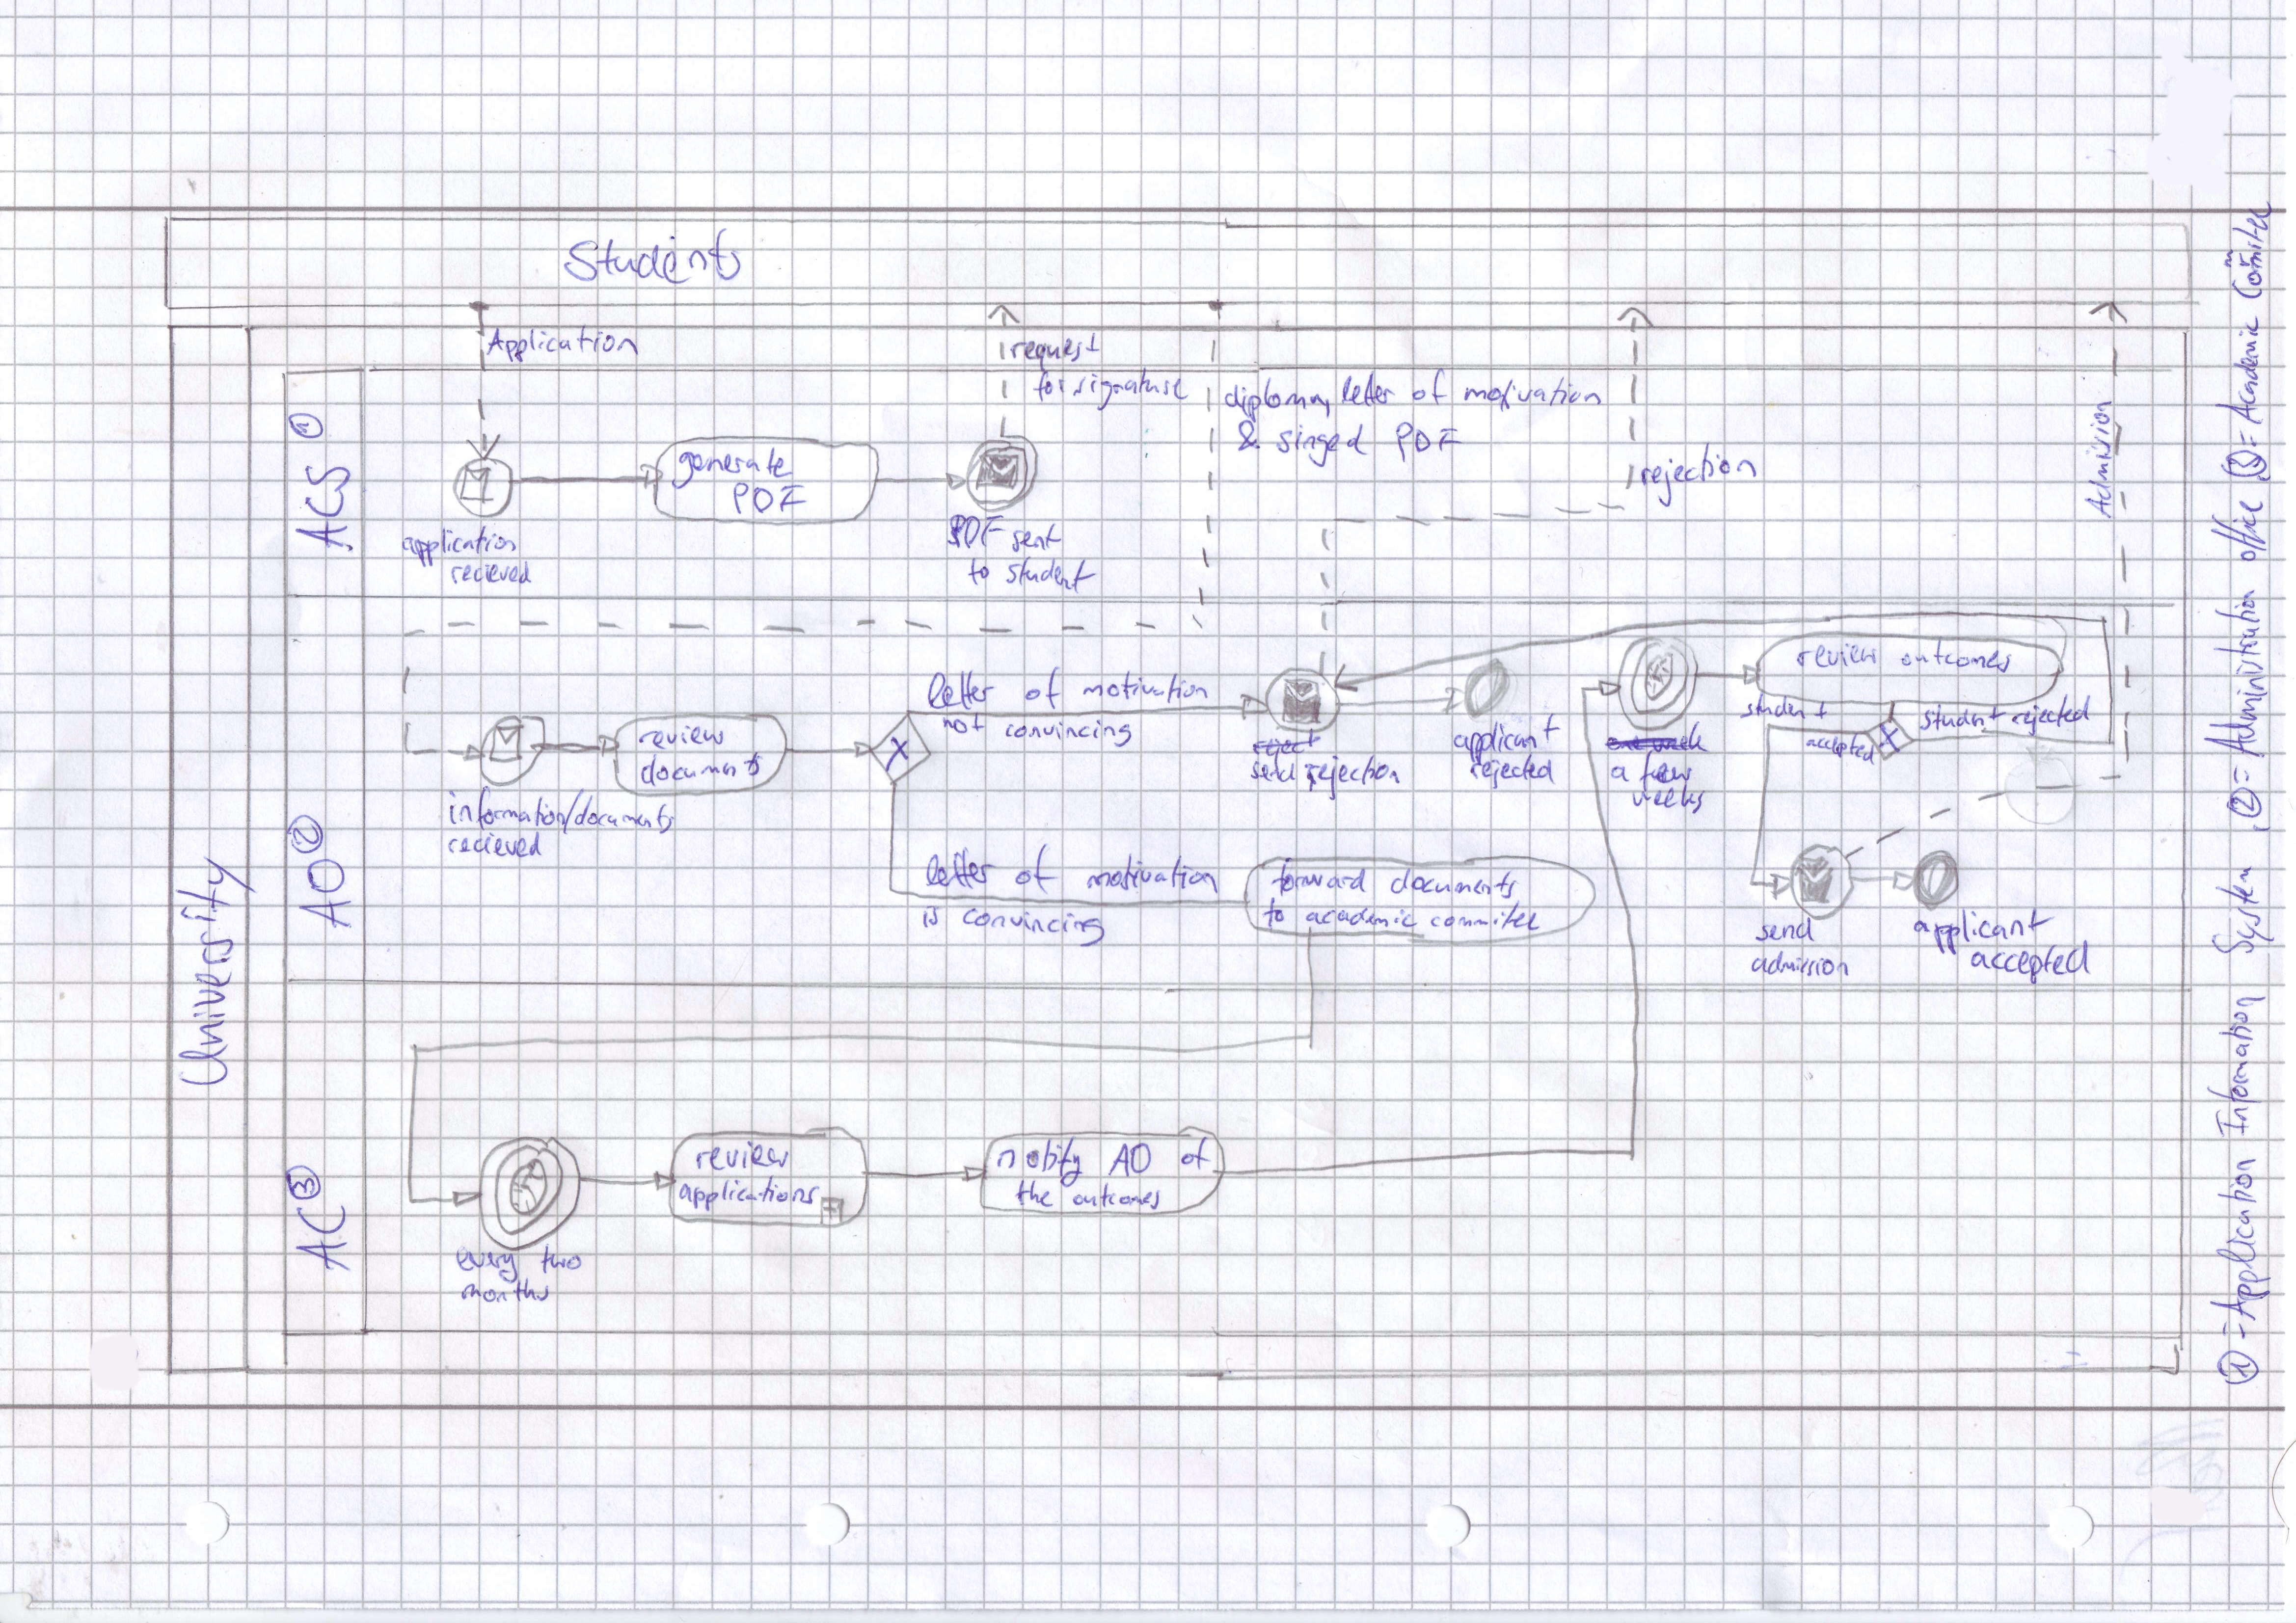&: (1233, 416, 1266, 457)
,: (2245, 819, 2276, 839), (2252, 470, 2277, 486)
/: (559, 785, 588, 838)
1: (2212, 1347, 2264, 1390), (283, 407, 328, 446)
2: (280, 809, 329, 859), (2221, 784, 2269, 824)
3: (2216, 446, 2272, 482), (280, 1161, 325, 1204)
=: (2215, 1317, 2252, 1344), (2226, 762, 2258, 789), (2233, 425, 2264, 450)
ACE: (288, 1197, 359, 1282)
ACS: (289, 456, 358, 559)
AD: (1103, 1138, 1157, 1182)
AO: (294, 854, 357, 936)
Academic: (2207, 310, 2270, 430)
Administration: (2196, 584, 2273, 766)
Admission: (2079, 397, 2119, 524)
Application: (2203, 1154, 2277, 1327), (480, 319, 646, 368)
Commetee: (2217, 193, 2278, 304)
Information: (2201, 989, 2272, 1143)
PDF: (1389, 417, 1468, 467), (727, 478, 813, 520), (942, 509, 1009, 555)
Students: (556, 222, 751, 293)
System: (2204, 861, 2279, 962)
University: (168, 847, 266, 1093)
a: (1606, 762, 1633, 788)
academic: (1302, 903, 1423, 933)
accepted: (1965, 934, 2096, 990), (1802, 729, 1880, 772)
admission: (1746, 947, 1854, 982)
applicant: (1908, 902, 2060, 960), (1447, 708, 1565, 772)
application: (397, 520, 520, 573)
applications: (674, 1170, 824, 1217)
commitee: (1426, 897, 1543, 936)
convincing: (957, 904, 1111, 953), (1001, 716, 1137, 753)
digratise: (1068, 372, 1189, 410)
diploma,: (1220, 373, 1335, 428)
documents: (636, 746, 767, 793), (1385, 864, 1523, 904), (571, 791, 679, 838)
every: (452, 1242, 524, 1288)
few: (1636, 745, 1696, 798)
for: (1028, 371, 1070, 406)
forward: (1268, 854, 1371, 903)
generate: (666, 443, 798, 495)
information: (443, 781, 568, 836)
is: (918, 901, 943, 933)
letter: (921, 842, 1003, 894), (922, 665, 1000, 716), (1334, 370, 1401, 412)
months: (456, 1274, 555, 1309)
motivation: (1081, 849, 1223, 900), (1460, 372, 1608, 416), (1078, 666, 1213, 708)
not: (937, 708, 990, 737)
notify: (992, 1130, 1088, 1192)
of: (1009, 840, 1065, 901), (1020, 661, 1065, 714), (1406, 362, 1451, 413), (1177, 1132, 1217, 1176)
office: (2204, 493, 2271, 567)
outcomes: (1896, 632, 2016, 678), (1067, 1178, 1166, 1213)
recieved: (443, 827, 546, 863), (446, 557, 536, 589)
rejected: (2008, 688, 2097, 744), (1465, 748, 1560, 794)
rejection: (1636, 438, 1762, 513), (1301, 749, 1405, 805)
request: (1005, 327, 1104, 377)
review: (632, 720, 729, 757), (691, 1142, 796, 1176), (1791, 639, 1883, 674)
send: (1752, 912, 1819, 948), (1246, 756, 1303, 789)
sent: (1007, 519, 1065, 559)
signed: (1271, 418, 1373, 472)
student: (1001, 553, 1101, 598), (1735, 686, 1833, 725), (1914, 699, 2010, 737)
the: (1011, 1174, 1058, 1213)
to: (1258, 895, 1291, 932), (964, 554, 995, 591)
two: (536, 1240, 587, 1280)
weeks: (1627, 777, 1710, 819)
